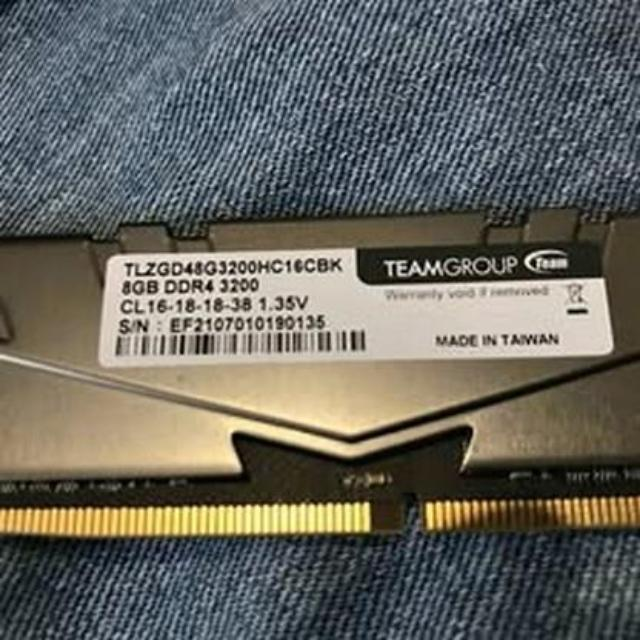RAM: (0, 213, 640, 542)
